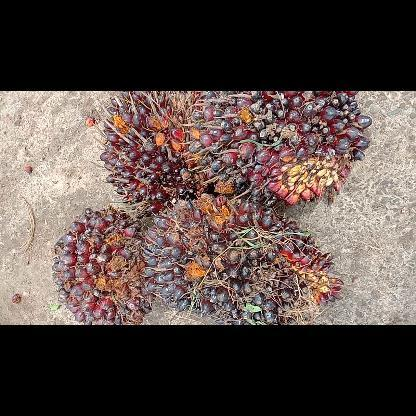Kurang masak: (140, 194, 348, 324), (184, 91, 376, 209), (96, 91, 212, 217), (49, 204, 157, 324)
